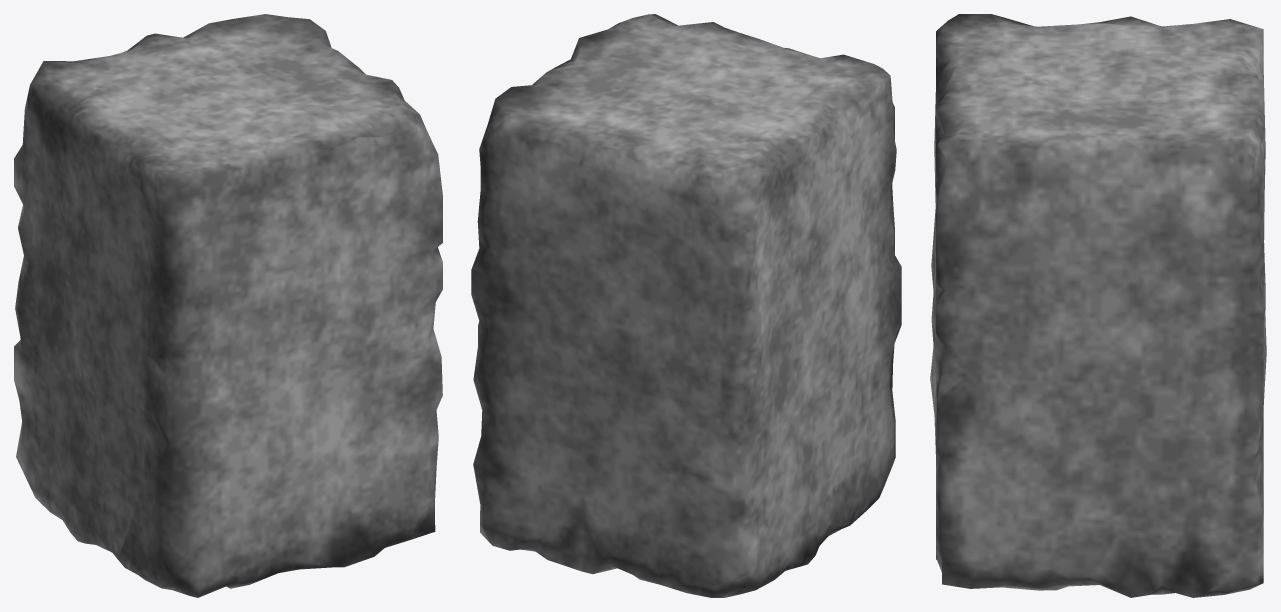
File: steppingstone.fbx
3 views of the same model, side by side, from view 1: azimuth 30°, elevation 25°; view 2: azimuth 150°, elevation 25°; view 3: azimuth 270°, elevation 25° (orthographic). The views are drawn at different scales.
Parts seen in each view (by area): view 1: SteppingStoneRemeshed; view 2: SteppingStoneRemeshed; view 3: SteppingStoneRemeshed.
Boxes of the visible parts, x1=… form: SteppingStoneRemeshed: x1=14, y1=14, x2=442, y2=597; SteppingStoneRemeshed: x1=471, y1=14, x2=901, y2=597; SteppingStoneRemeshed: x1=930, y1=14, x2=1266, y2=597.
Size of the model in its own units: 205 by 306 by 205.
